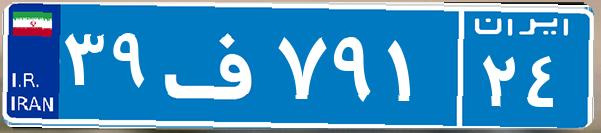1: (385, 28, 445, 110)
2: (475, 38, 525, 113)
3: (57, 26, 110, 107)
4: (525, 38, 570, 115)
7: (273, 28, 330, 110)
9: (330, 28, 385, 110), (110, 28, 158, 105)
ف: (158, 15, 273, 115)
